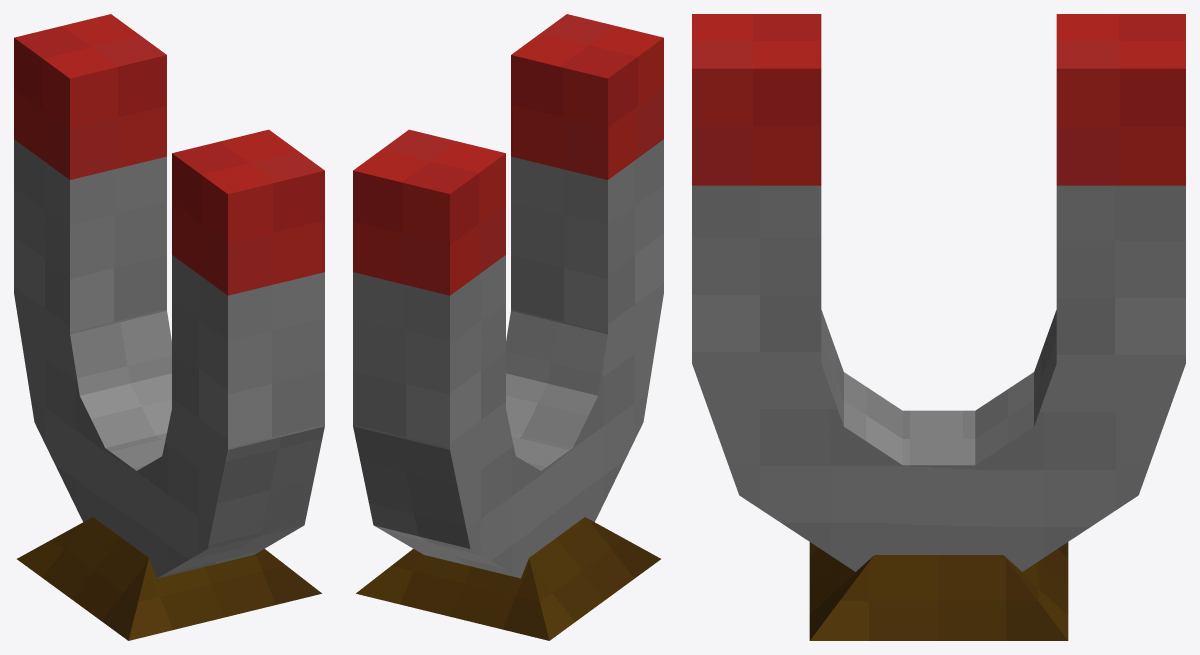
The model's file is Magnet.glb.
The picture shows the model from 3 angles, left to right: view 1: azimuth 30°, elevation 25°; view 2: azimuth 150°, elevation 25°; view 3: azimuth 270°, elevation 25°; orthographic projection. The views are drawn at different scales.
Visible parts, largest first — view 1: Magnet; view 2: Magnet; view 3: Magnet.
Part boxes in pixels (box(x1,y1,x2,y2)): Magnet: box(14, 14, 324, 640); Magnet: box(353, 14, 663, 640); Magnet: box(692, 14, 1185, 640).
Size of the model in its own units: 0.25 by 0.5815 by 0.4775.
Materials: 1 (1 with a texture image).
